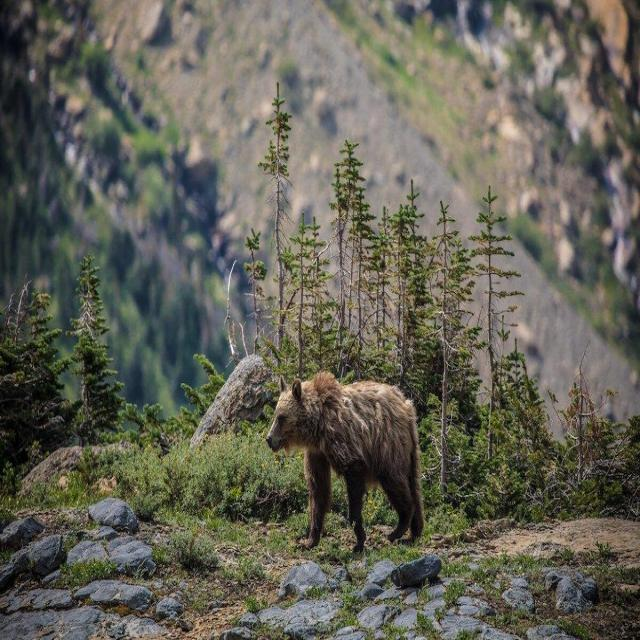Bear: (265, 373, 425, 554)
